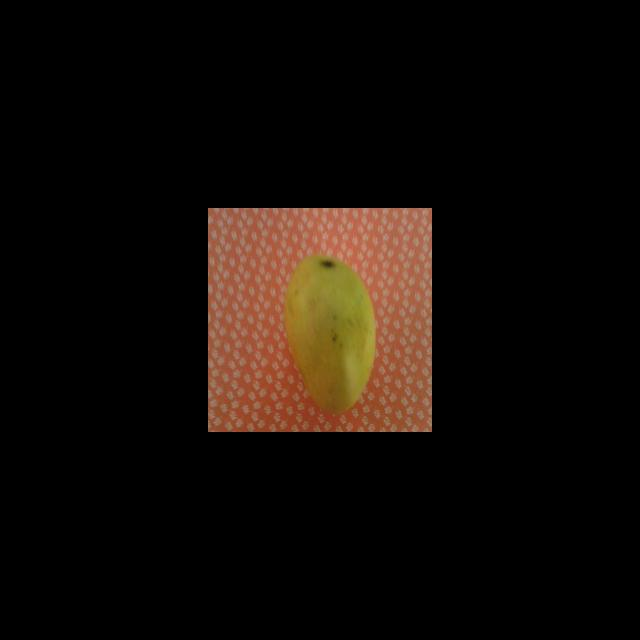Mango: (283, 254, 376, 415)
